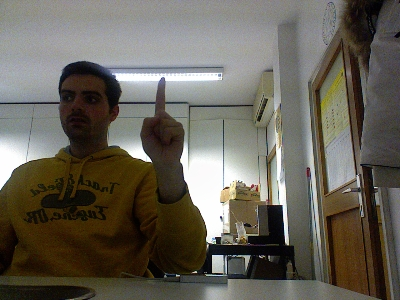食指: (139, 76, 185, 167)
